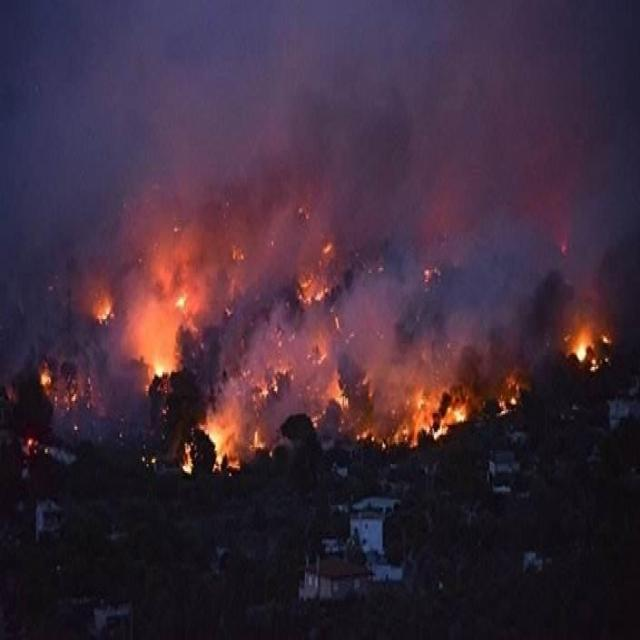fire: (41, 206, 612, 460)
smoke: (76, 6, 616, 224)
